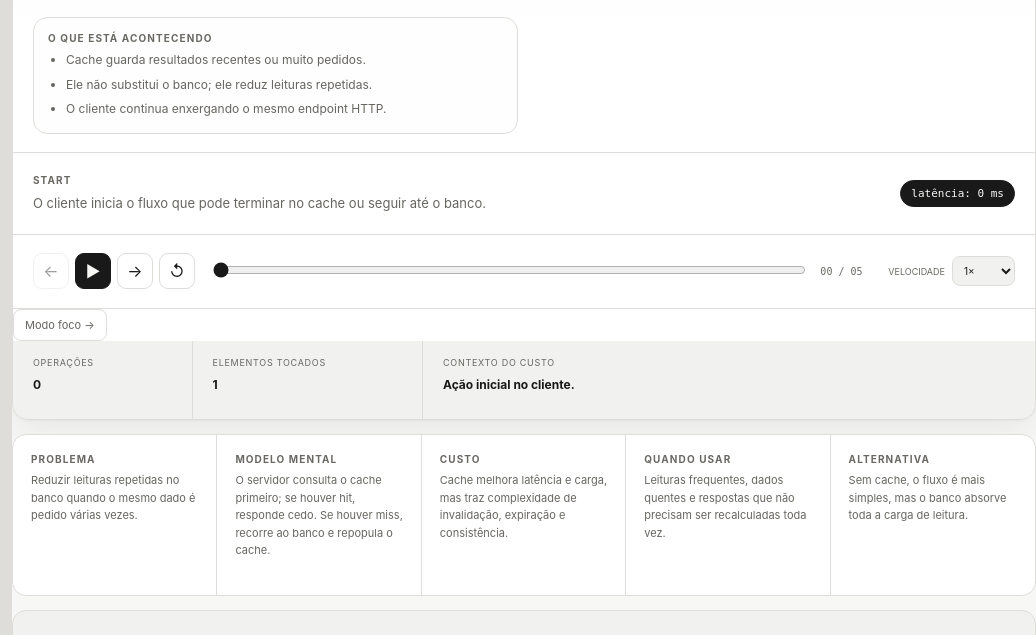
Test: LessonPlayer › troca entre cache hit e cache miss reiniciando a timeline
(page scrolled)
Step 1. Click the button named "Próximo passo" → {"x": 135, "y": 272}, box [117,254,153,290]
(page scrolled)
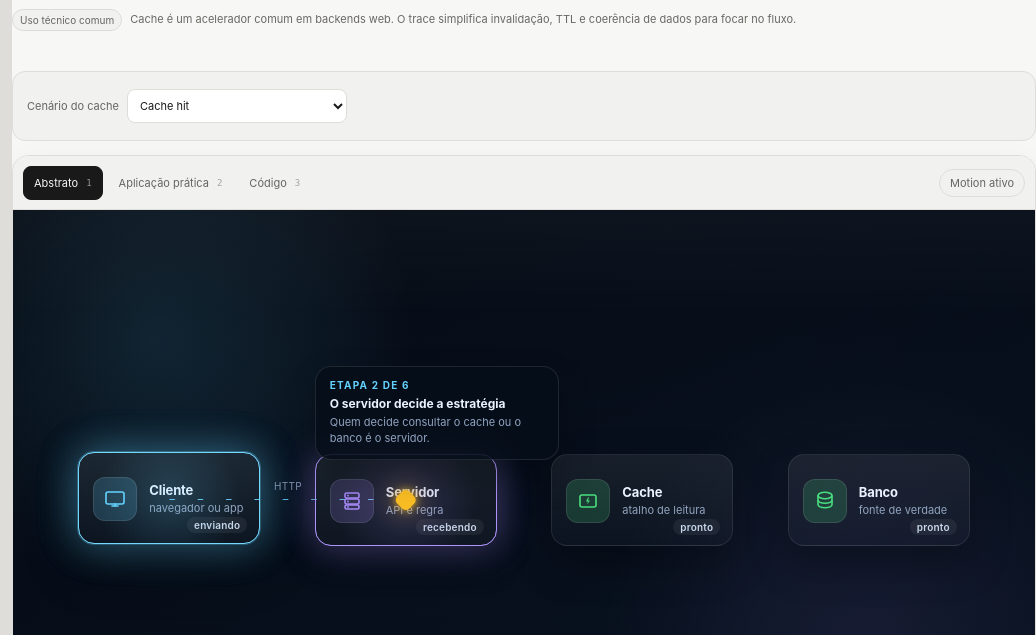
Step 2. Select "Cache miss" in the dropdown labelled "Cenário do cache" → {"x": 237, "y": 106}, box [127,89,347,123]
(page scrolled)
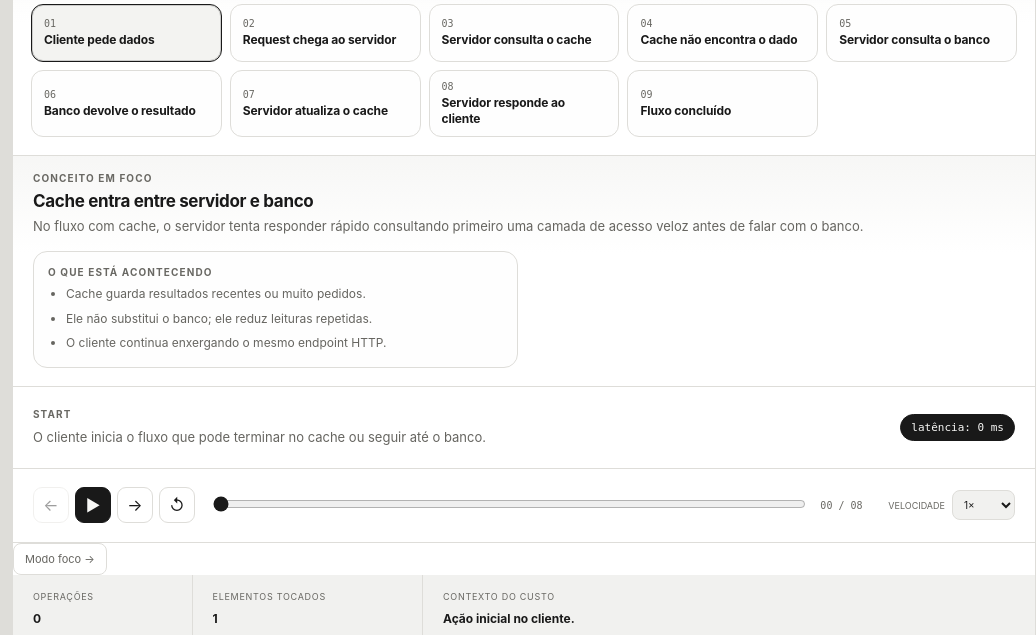
Check: the element labelled "Conceito em foco" shows "Cache entra entre servidor e banco", box [33,191,313,211]
